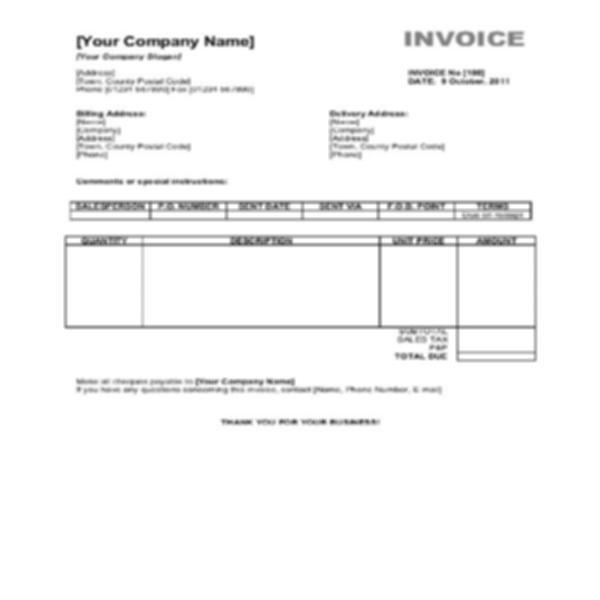test: (65, 234, 536, 361)
